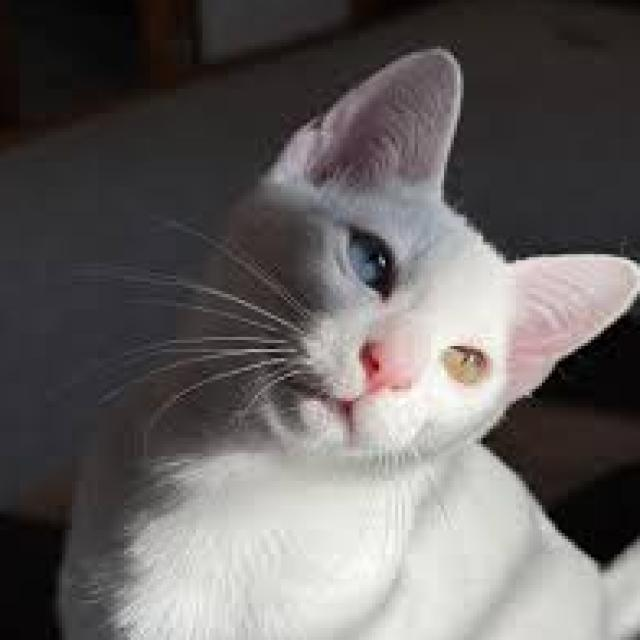Khao Manee: (45, 36, 640, 640)
